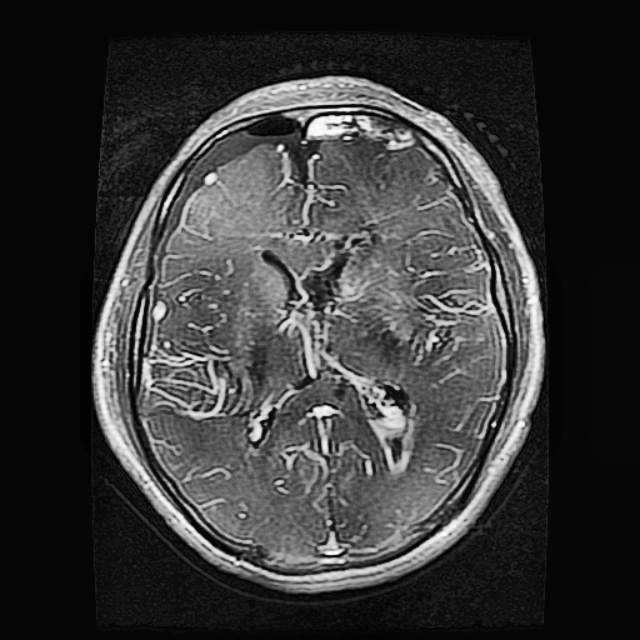Glioma: (235, 228, 398, 410)
